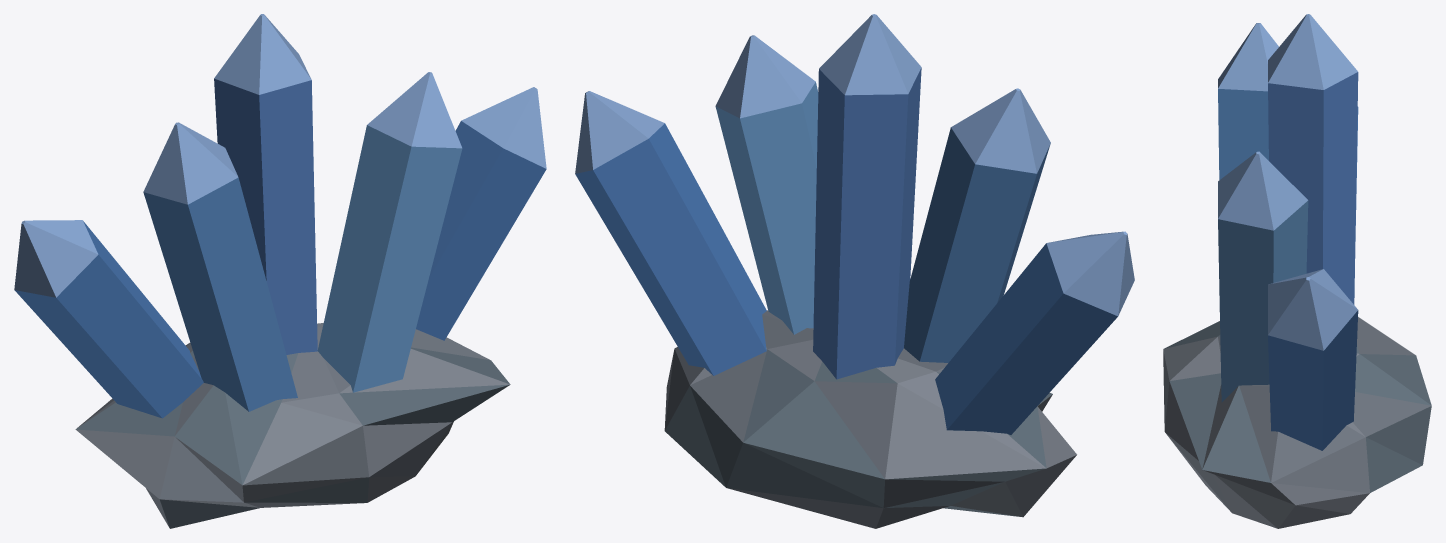
The model's file is marine-loot-3.glb.
3 views of the same model, side by side, from view 1: azimuth 30°, elevation 25°; view 2: azimuth 150°, elevation 25°; view 3: azimuth 270°, elevation 25° (orthographic). The views are drawn at different scales.
Visible parts, largest first — view 1: marine-loot-3; view 2: marine-loot-3; view 3: marine-loot-3.
Part boxes in pixels (<box>): marine-loot-3: <box>14,14,546,528</box>; marine-loot-3: <box>575,14,1134,528</box>; marine-loot-3: <box>1163,14,1431,528</box>.
Bounding box in the file's own units: 1.96 × 1.72 × 0.9139.
